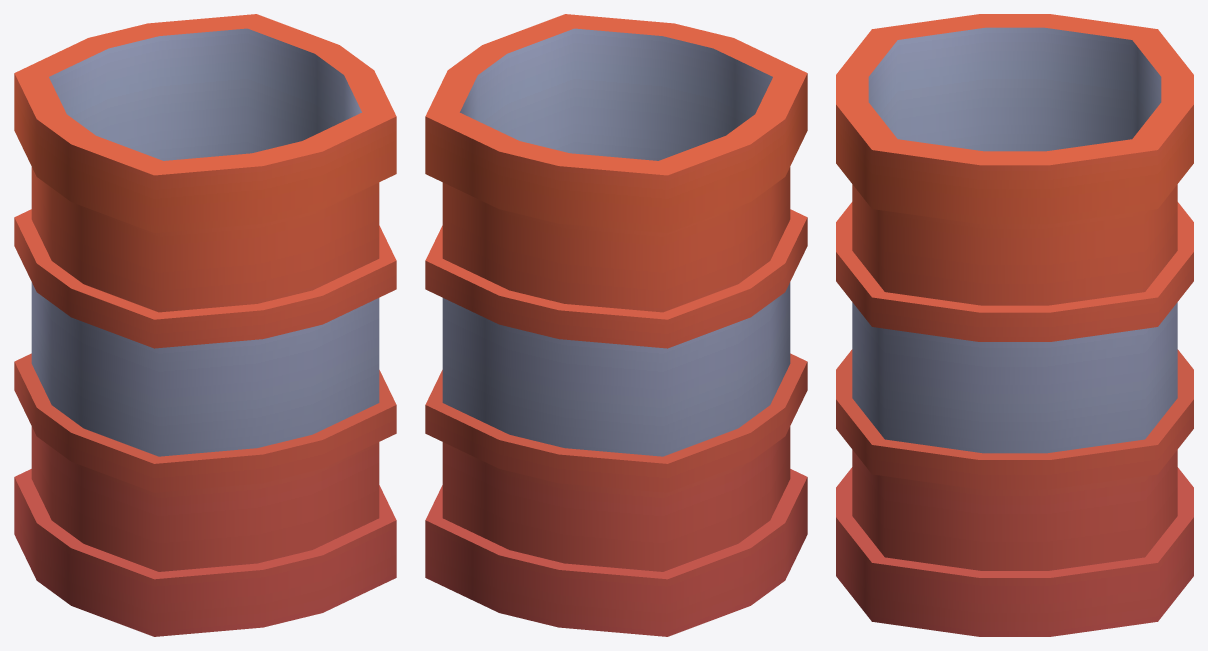
The model's file is barrel-open.glb.
3 views of the same model, side by side, from view 1: azimuth 30°, elevation 25°; view 2: azimuth 150°, elevation 25°; view 3: azimuth 270°, elevation 25° (orthographic). The views are drawn at different scales.
Visible parts, largest first — view 1: barrel-open; view 2: barrel-open; view 3: barrel-open.
Boxes of the visible parts, left/top/right/bottom form: barrel-open: left=14, top=14, right=396, bottom=636; barrel-open: left=425, top=14, right=807, bottom=636; barrel-open: left=836, top=14, right=1193, bottom=636.
Bounding box in the file's own units: 0.2365 × 0.344 × 0.2365.
1 material, 1 textured.
